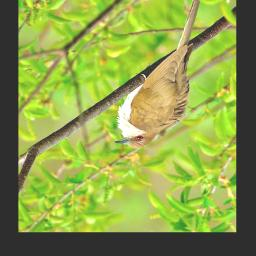Cuckoo: (113, 0, 204, 148)
